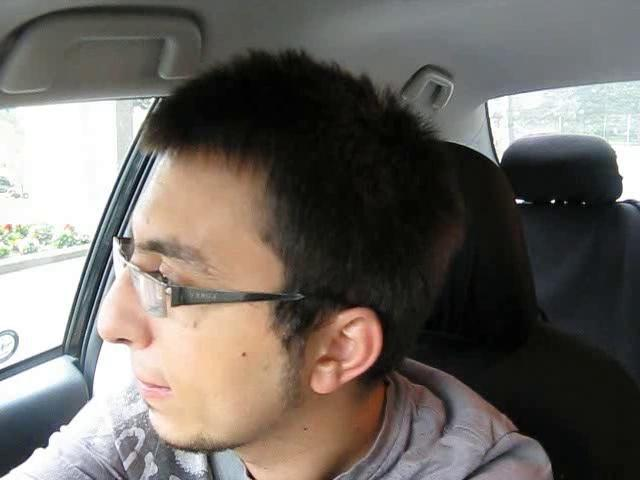no_yawn: (124, 364, 189, 407)
open_eyeR: (144, 250, 199, 311)
